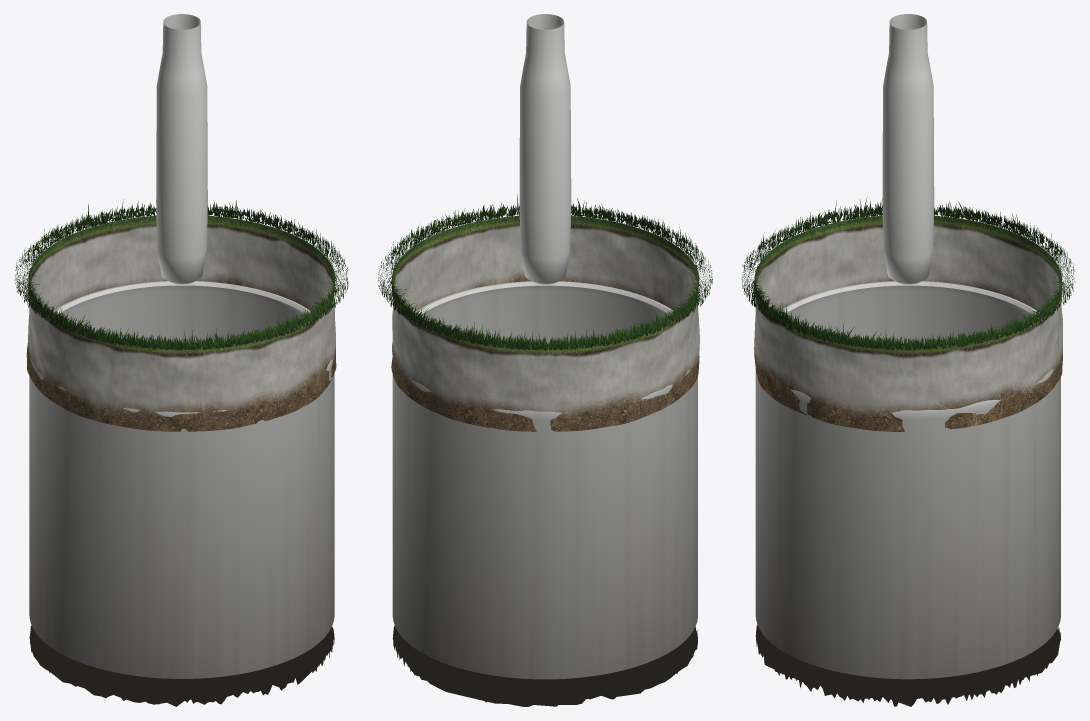
The model's file is cup.glb.
The picture shows the model from 3 angles, left to right: view 1: azimuth 30°, elevation 25°; view 2: azimuth 150°, elevation 25°; view 3: azimuth 270°, elevation 25°; orthographic projection.
Parts seen in each view (by area): view 1: liner, soil, ferrule, fringe, gravel; view 2: liner, soil, ferrule, fringe, gravel; view 3: liner, soil, ferrule, fringe, gravel.
Part boxes in pixels (x1,y1,x2,y2): liner: (29, 281, 334, 678); soil: (26, 215, 336, 431); ferrule: (156, 14, 207, 284); fringe: (14, 199, 348, 350); gravel: (29, 625, 334, 706); liner: (392, 281, 697, 679); soil: (391, 215, 699, 431); ferrule: (519, 14, 571, 284); fringe: (378, 194, 712, 350); gravel: (392, 626, 697, 706); liner: (755, 281, 1060, 679); soil: (753, 215, 1062, 431); ferrule: (882, 14, 934, 284); fringe: (741, 197, 1075, 350); gravel: (755, 625, 1060, 706).
Size of the model in its own units: 0.1177 by 0.257 by 0.1177.
Materials: 5 (1 with a texture image).
